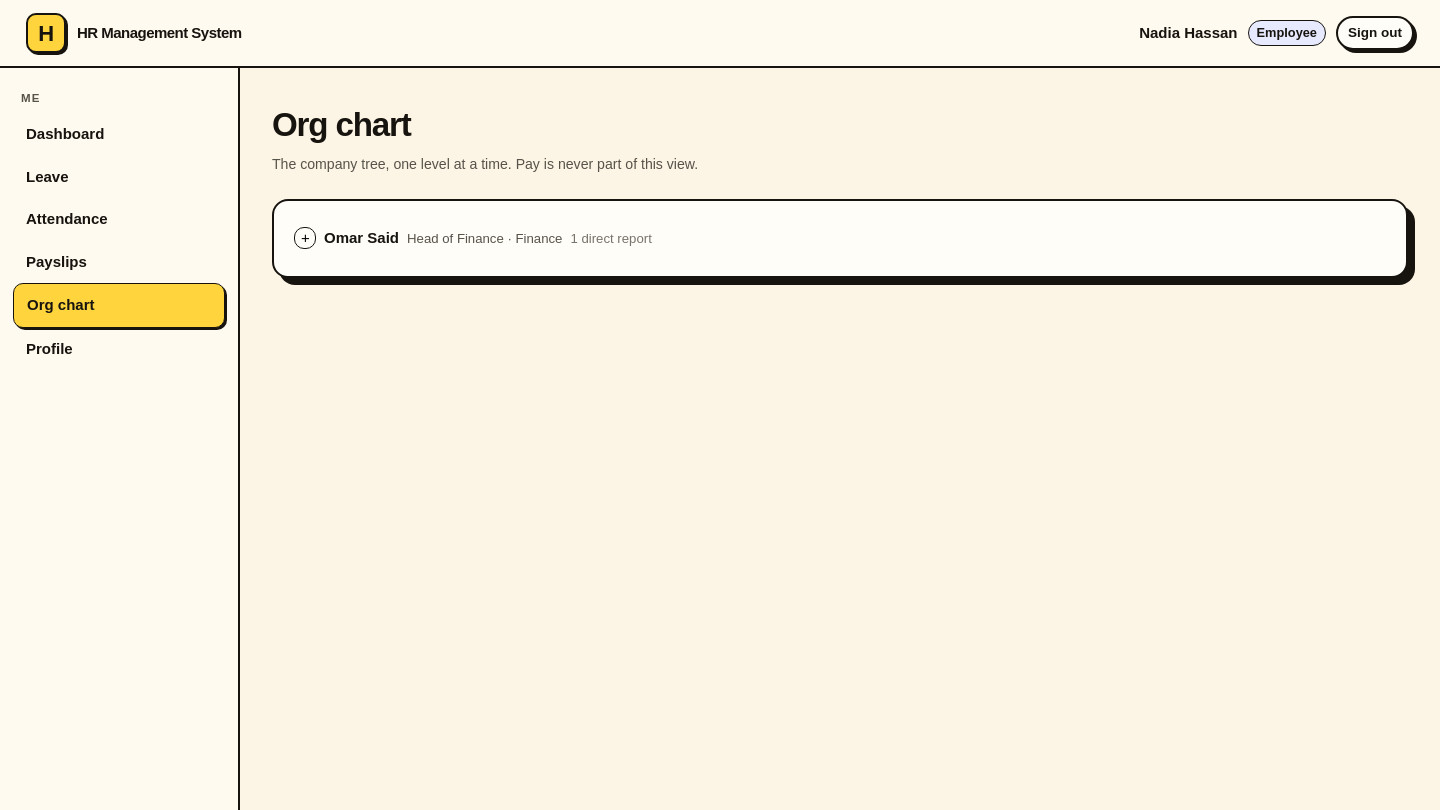
Test: org chart › loads the reports of a node when it is expanded
The image size is (1440, 810).
Expected: the list named "Organisation chart" is shown, [294,227,652,249]
Step 1. Click the button named "Expand the reports of Omar Said" → (305, 238), box [294,227,316,249]
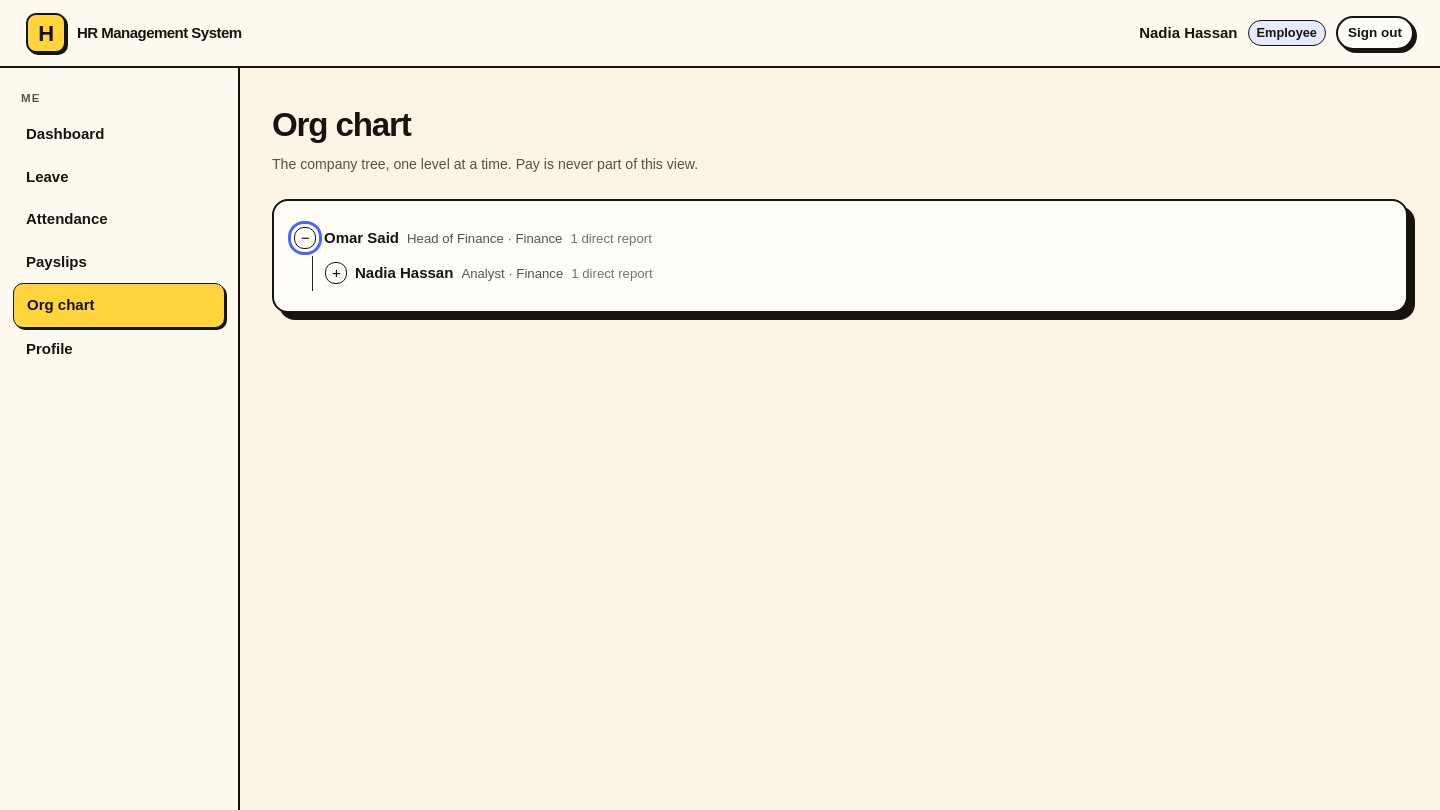
Expected: the text "Nadia Hassan" next to "Analyst" is shown, [355,264,453,281]
